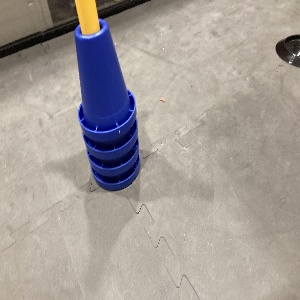Blue_4: (73, 19, 140, 191)
